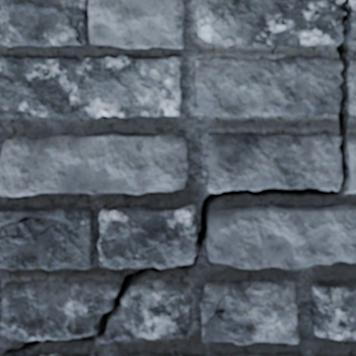brick: (0, 133, 187, 195), (0, 56, 181, 117), (206, 205, 355, 268), (0, 0, 183, 49), (98, 205, 196, 268), (201, 281, 298, 344), (0, 207, 92, 269), (311, 282, 355, 339), (128, 352, 187, 355), (5, 354, 40, 355), (71, 354, 96, 355), (281, 354, 297, 355)
broken_brick: (192, 55, 341, 118), (207, 131, 340, 192), (0, 279, 120, 341), (194, 0, 342, 48), (94, 279, 193, 344), (347, 134, 355, 193), (349, 59, 355, 117), (350, 0, 355, 46)
crack: (2, 0, 353, 355), (0, 213, 44, 234), (59, 8, 83, 45), (202, 293, 228, 327), (0, 225, 51, 240)
